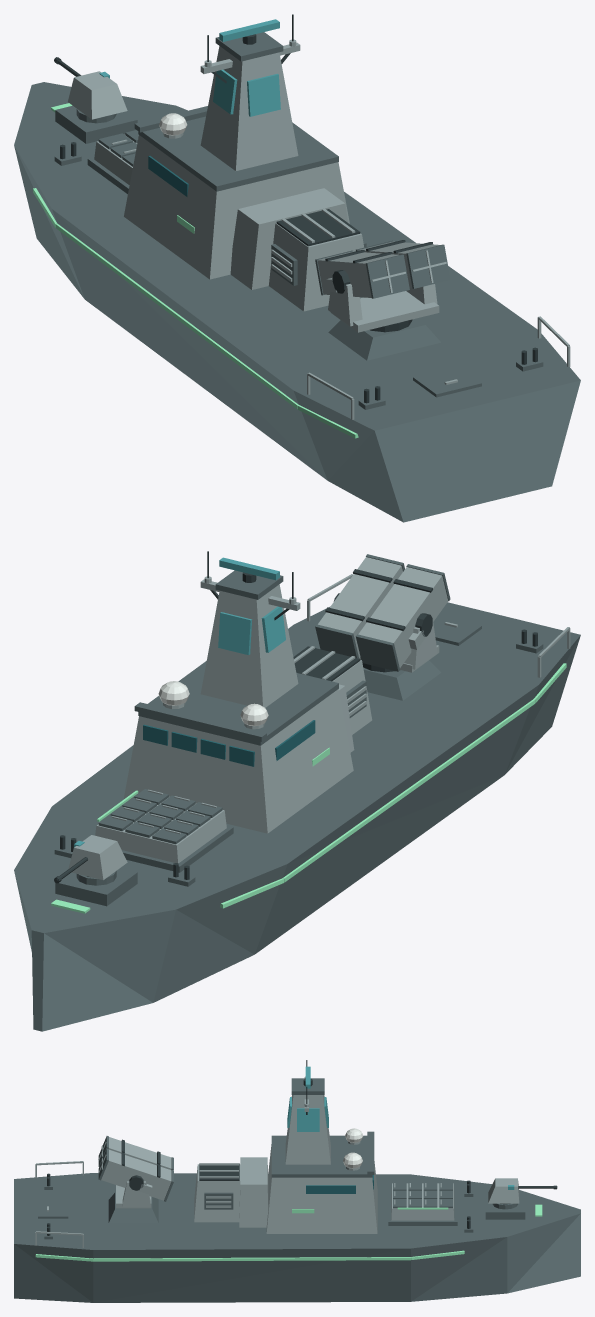
File: ESC_CAP_T2.fbx
3 views of the same model, one above another, from view 1: azimuth 30°, elevation 25°; view 2: azimuth 150°, elevation 25°; view 3: azimuth 270°, elevation 25° (orthographic). The views are drawn at different scales.
Parts seen in each view (by area): view 1: ContinuousHull.002, Deckhouse.002, IntegratedRadarEnclosure, Roof.002, AftServiceCabin.002, FunnelEnclosure.002, SAMFixedPedestal.001, SAMSlewTable, PrimaryGunCupola.002, PrimaryGunDeckPlinth, RoleHullStripe-1_1, SAMCanisterBank_02 (+9 smaller); view 2: ContinuousHull.002, Deckhouse.002, IntegratedRadarEnclosure, Roof.002, SAMCanisterBank_02, SAMCanisterBank_01, ForwardVLSCasing.002, PrimaryGunCupola.002, SAMFixedPedestal.001, PrimaryGunDeckPlinth, RoleHullStripe-1_1, BridgeBrow (+13 smaller); view 3: ContinuousHull.002, Deckhouse.002, Roof.002, IntegratedRadarEnclosure, AftServiceCabin.002, SAMCanisterBank_01, FunnelEnclosure.002, RoleHullStripe1_1, ForwardVLSCasing.002, SAMFixedPedestal.001, SAMCanisterBank_02, PrimaryGunCupola.002 (+10 smaller).
Boxes of the visible parts, x1,y1,x2,y2 form: ContinuousHull.002: [14, 82, 580, 522]; Deckhouse.002: [124, 135, 349, 279]; IntegratedRadarEnclosure: [200, 46, 298, 170]; Roof.002: [138, 116, 338, 191]; AftServiceCabin.002: [230, 188, 347, 289]; FunnelEnclosure.002: [268, 223, 364, 311]; SAMFixedPedestal.001: [328, 318, 440, 360]; SAMSlewTable: [331, 291, 439, 332]; PrimaryGunCupola.002: [68, 71, 127, 119]; PrimaryGunDeckPlinth: [55, 105, 137, 143]; RoleHullStripe-1_1: [55, 223, 298, 408]; SAMCanisterBank_02: [317, 251, 398, 297]; ContinuousHull.002: [14, 602, 580, 1031]; Deckhouse.002: [124, 689, 353, 833]; IntegratedRadarEnclosure: [200, 584, 298, 707]; Roof.002: [138, 661, 338, 745]; SAMCanisterBank_02: [358, 567, 448, 667]; SAMCanisterBank_01: [318, 557, 402, 658]; ForwardVLSCasing.002: [95, 796, 226, 863]; PrimaryGunCupola.002: [68, 835, 127, 880]; SAMFixedPedestal.001: [363, 660, 441, 700]; PrimaryGunDeckPlinth: [55, 868, 137, 906]; RoleHullStripe-1_1: [283, 699, 535, 882]; BridgeBrow: [134, 702, 266, 741]; ContinuousHull.002: [14, 1173, 580, 1302]; Deckhouse.002: [266, 1144, 377, 1233]; Roof.002: [271, 1135, 372, 1177]; IntegratedRadarEnclosure: [285, 1095, 330, 1164]; AftServiceCabin.002: [239, 1157, 268, 1227]; SAMCanisterBank_01: [101, 1149, 171, 1200]; FunnelEnclosure.002: [194, 1164, 240, 1222]; RoleHullStripe1_1: [93, 1257, 410, 1261]; ForwardVLSCasing.002: [391, 1183, 454, 1220]; SAMFixedPedestal.001: [108, 1192, 158, 1223]; SAMCanisterBank_02: [108, 1137, 171, 1169]; PrimaryGunCupola.002: [488, 1178, 519, 1203].
Size of the model in its own units: 290 by 353 by 900.
